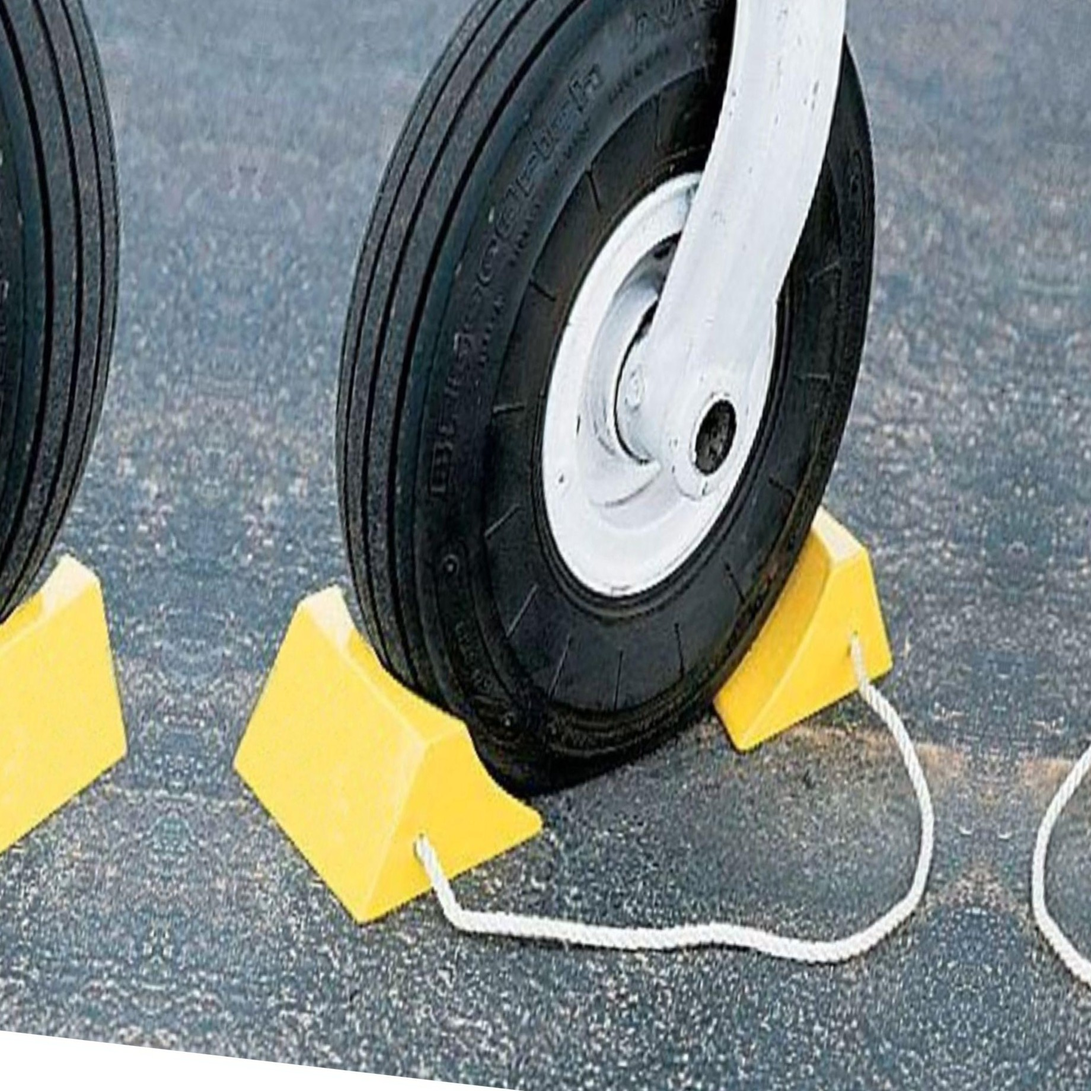chock: (214, 577, 566, 943), (653, 471, 916, 770), (0, 529, 151, 896)
wheel: (290, 0, 920, 838)
